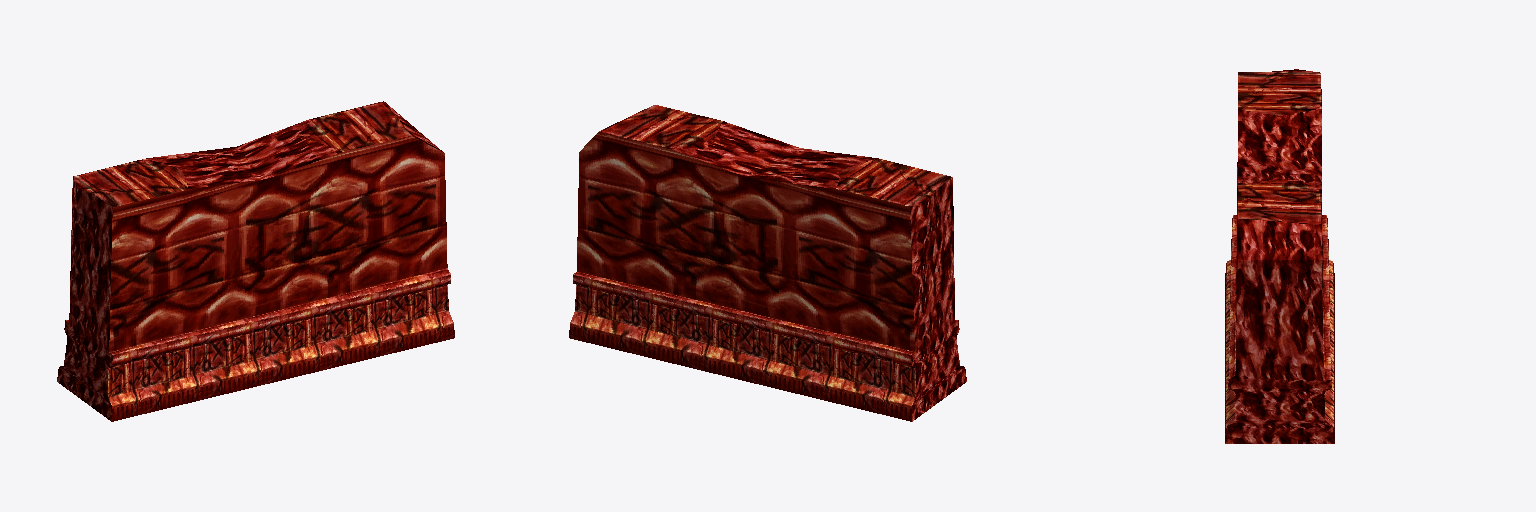
The picture shows the model from 3 angles: view 1: azimuth 30°, elevation 25°; view 2: azimuth 150°, elevation 25°; view 3: azimuth 270°, elevation 25°; orthographic projection.
Parts seen in each view (by area): view 1: ruinssatyrwall01; view 2: ruinssatyrwall01; view 3: ruinssatyrwall01.
Part boxes in pixels (x1,y1,x2,y2): ruinssatyrwall01: (57, 101, 454, 421); ruinssatyrwall01: (569, 105, 966, 421); ruinssatyrwall01: (1225, 69, 1334, 443).
Size of the model in its own units: 9.87 by 5.72 by 2.73.
3 materials, 3 textured.